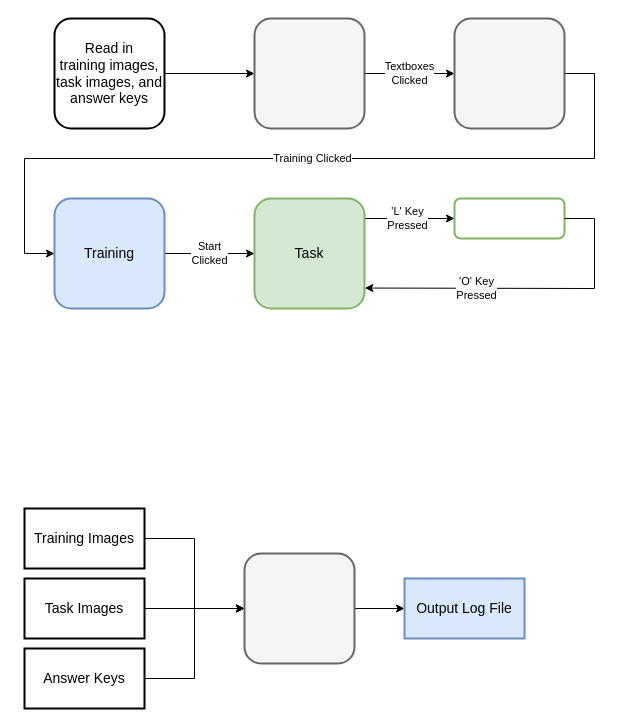
The diagram is 620 pixels wide and 726 high, and some of its shapes have lost their labels. The centre of each missing label's shape, as x and y in pixels:
"Menu" goes at pixel 309 73.
"Spot Report Program" goes at pixel 299 608.
"Task locked" goes at pixel 509 218.
"Type in subject ID and condition" goes at pixel 509 73.
